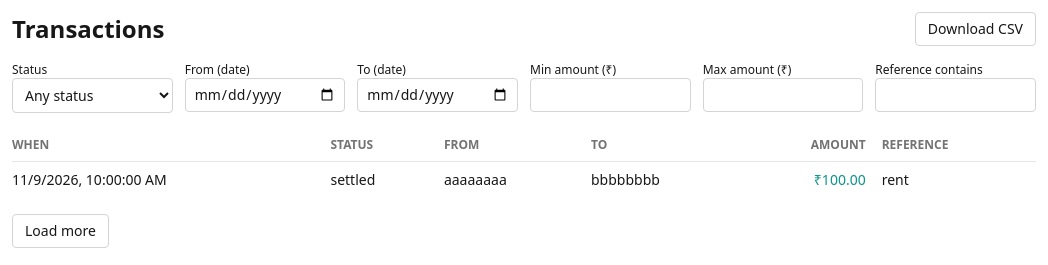
Test: TransactionsPage › shows rows with rupee amounts and offers to load more
The image size is (1048, 265).
expect the link "₹100.00" is shown: met, box [814,170,866,189]
expect the text "rent" is shown: met, box [882,162,1036,198]
Click the button "Load more" at (60, 231), box [12,214,109,248]
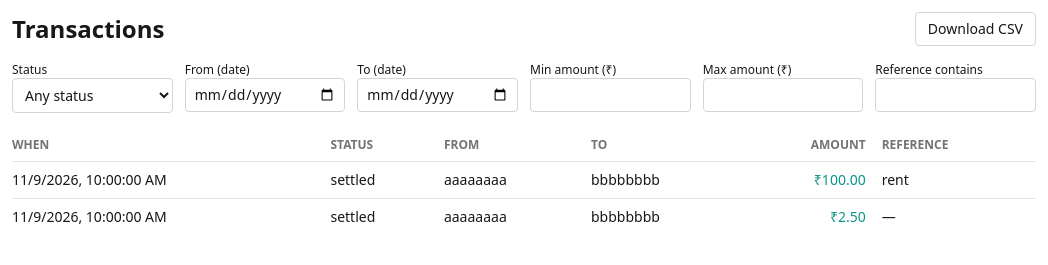
expect the link "₹2.50" is shown: met, box [830,207,866,226]
expect the button "Load more" is gone: met
